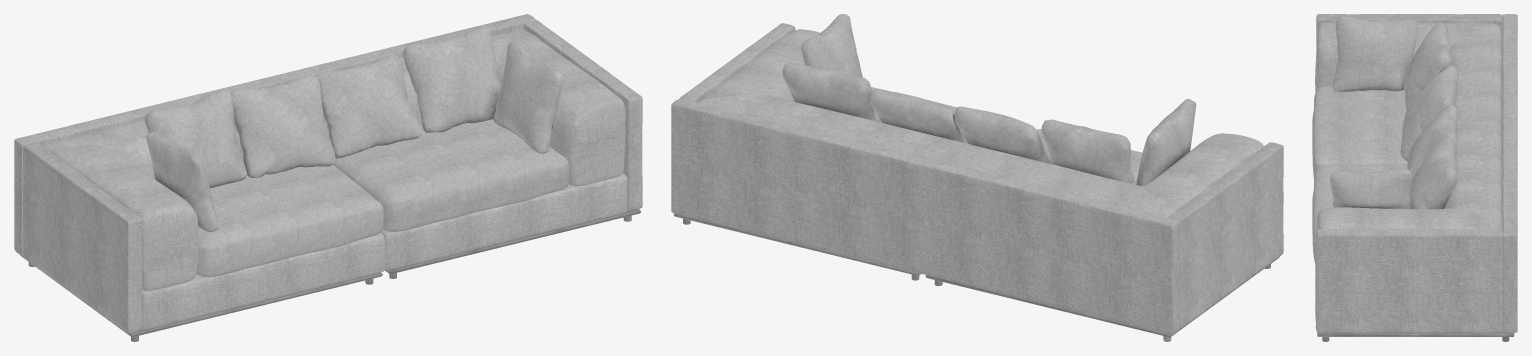
File: divano-1.glb
3 renders of one model, left to right at view 1: azimuth 30°, elevation 25°; view 2: azimuth 150°, elevation 25°; view 3: azimuth 270°, elevation 25°, orthographic. The views are drawn at different scales.
Parts seen in each view (by area): view 1: defaultMaterial (×6); view 2: defaultMaterial (×5); view 3: defaultMaterial (×5).
Boxes of the visible parts, box(x1,y1,x2,y2) form: defaultMaterial (×6): box(14, 14, 642, 341); defaultMaterial (×5): box(671, 14, 1283, 341); defaultMaterial (×5): box(1312, 14, 1517, 341).
Size of the model in its own units: 2 by 0.6017 by 0.7837.
6 materials, 6 textured.
